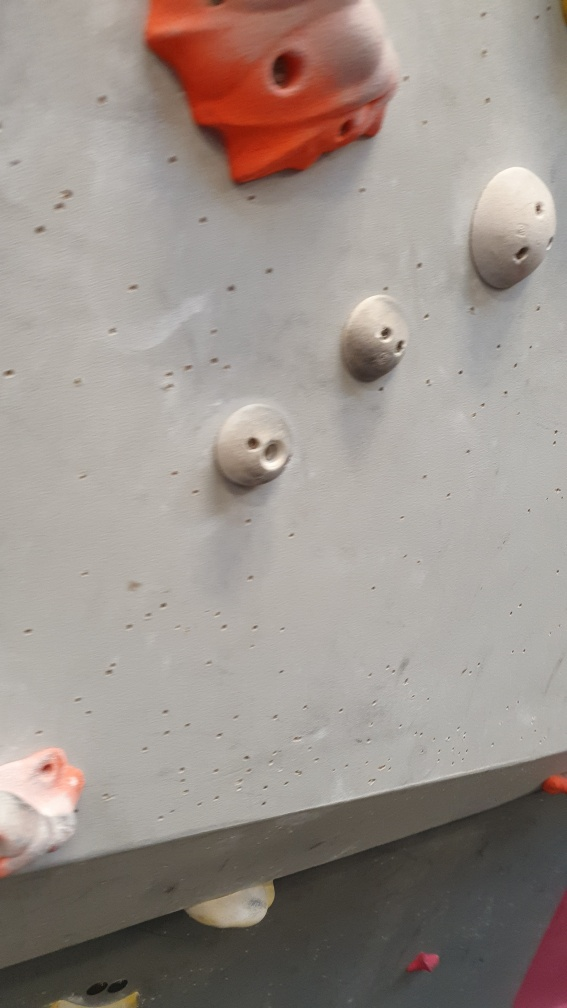Hand Start: (102, 973, 135, 998), (83, 974, 105, 1001)
Jug: (138, 1, 405, 191)
Sloper: (468, 163, 560, 295), (212, 395, 299, 488), (338, 291, 413, 389)
